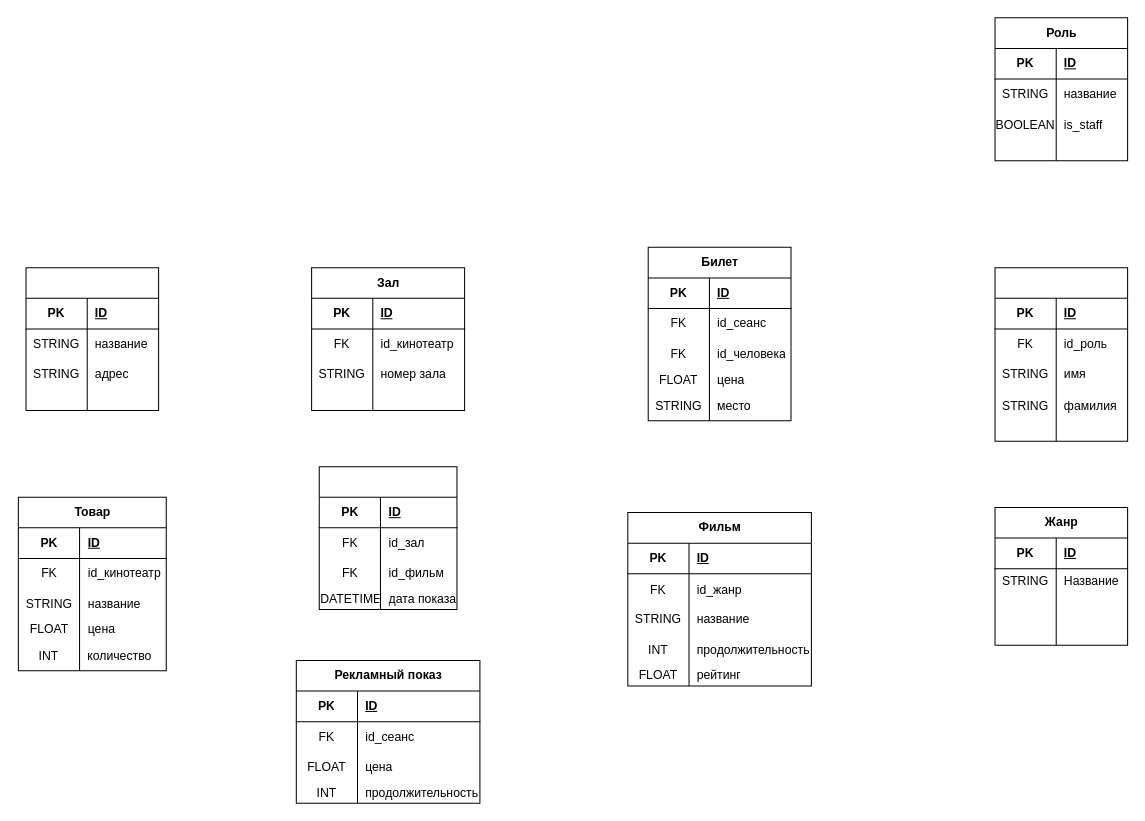
Some shapes in this 1145 by 821 pixel diagram are drawn without their labels. Each missing label, with the box of its shape:
Кинотеатр: (25, 267, 159, 411)
Сеанс: (318, 466, 457, 609)
Человек: (994, 267, 1128, 441)
